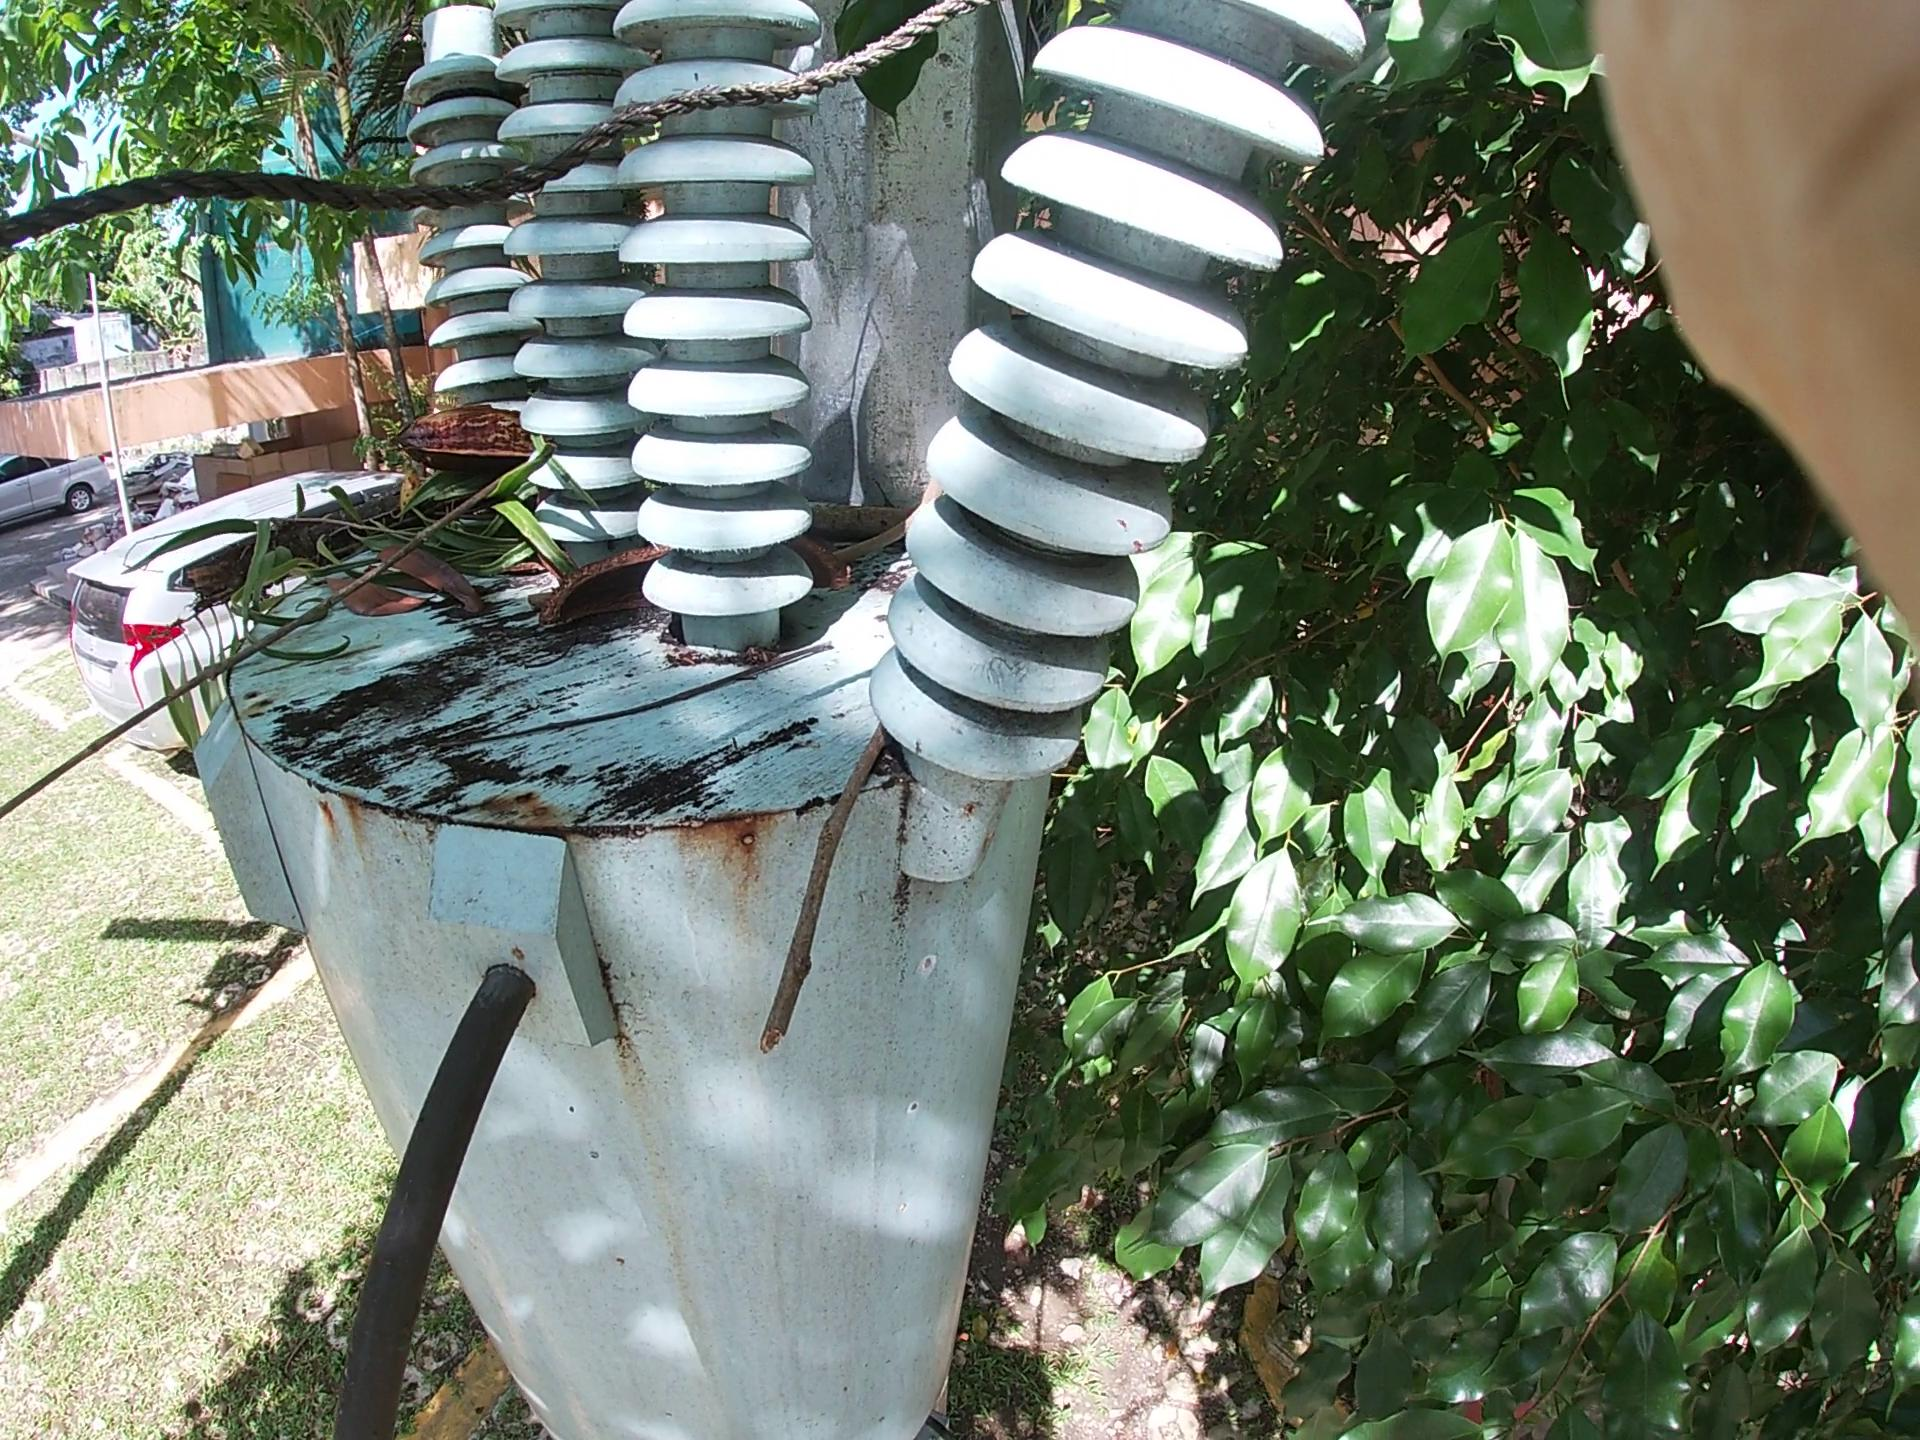branch with leaves: (249, 289, 810, 664)
leaf: (321, 421, 652, 653)
mahogany fruit: (386, 349, 608, 535), (568, 523, 878, 650)
tree branch: (12, 160, 768, 820), (688, 631, 939, 1053)
